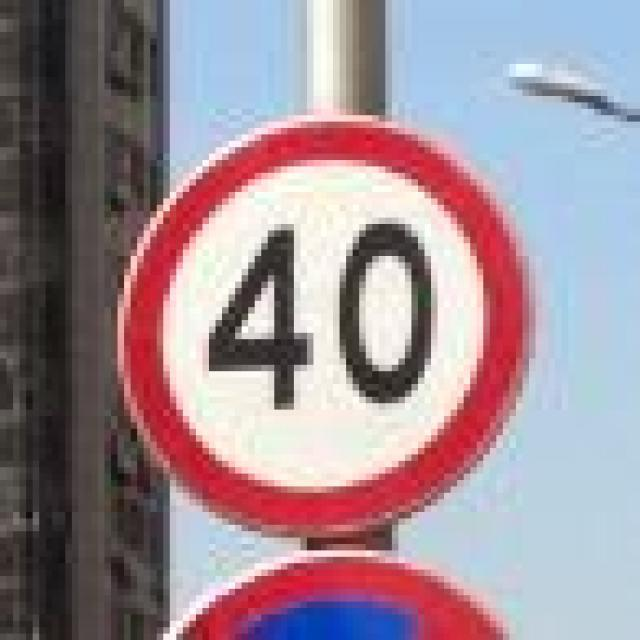speed limit 40: (116, 109, 538, 531)
